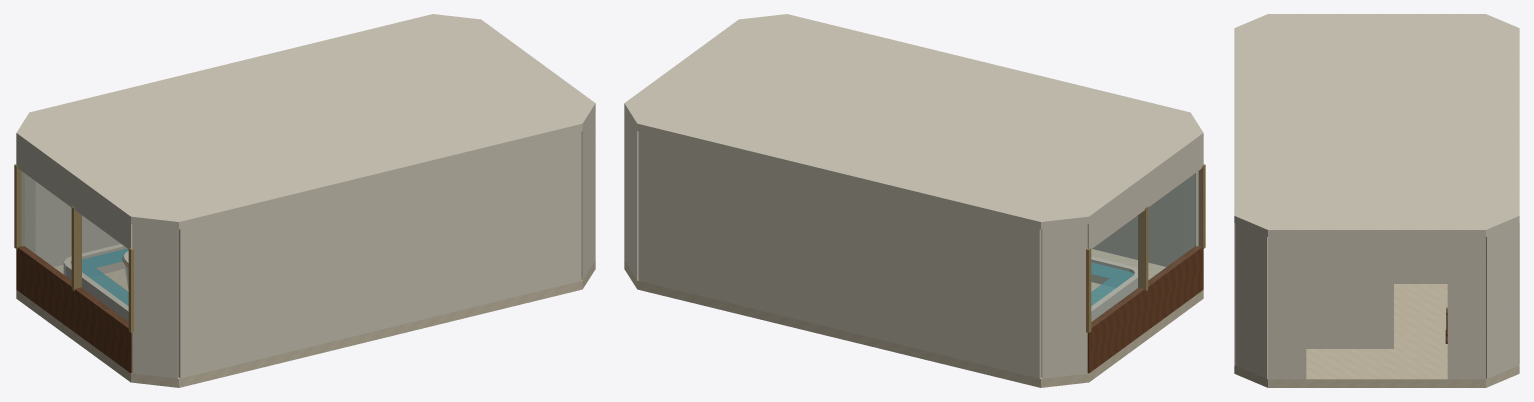
Rendered from D04_STARBOARD_CENTRAL_HOME_896_r001.glb.
3 views of the same model, side by side, from view 1: azimuth 30°, elevation 25°; view 2: azimuth 150°, elevation 25°; view 3: azimuth 270°, elevation 25° (orthographic). The views are drawn at different scales.
Parts seen in each view (by area): view 1: SC896_D04H898_Roof, SC896_D04H898_Shell_7, SC896_D04H898_GardenGlass, SC896_D04H898_Shell_6, SC896_D04H898_Floor, SC896_D04H898_GardenDado, SC896_D04H898_Shell_3, SC896_D04H898_GardenHead, SC896_D04H898_Shell_0, SC896_D04H898_AquaticBasinRim, SC896_D04H898_Water_0, SC896_D04H898_Shell_4 (+3 smaller); view 2: SC896_D04H898_Roof, SC896_D04H898_Shell_3, SC896_D04H898_GardenGlass, SC896_D04H898_Shell_4, SC896_D04H898_Floor, SC896_D04H898_GardenDado, SC896_D04H898_Shell_7, SC896_D04H898_GardenHead, SC896_D04H898_Shell_2, SC896_D04H898_AquaticBasinRim, SC896_D04H898_Shell_6, SC896_D04H898_WindowMullion_1 (+3 smaller); view 3: SC896_D04H898_Roof, SC896_D04H898_Floor, SC896_D04H898_EntryHeader, SC896_D04H898_BathDogleg, SC896_D04H898_EntryWall_0, SC896_D04H898_EntryWall_1, SC896_D04H898_Shell_0, SC896_D04H898_Shell_2, SC896_D04H898_Shell_3, SC896_D04H898_Shell_7.
Part boxes in pixels (box(x1,y1,x2,y2)): SC896_D04H898_Roof: box(16, 14, 595, 229); SC896_D04H898_Shell_7: box(178, 131, 581, 378); SC896_D04H898_GardenGlass: box(24, 173, 128, 325); SC896_D04H898_Shell_6: box(132, 224, 178, 378); SC896_D04H898_Floor: box(16, 260, 595, 387); SC896_D04H898_GardenDado: box(16, 246, 132, 373); SC896_D04H898_Shell_3: box(35, 181, 120, 266); SC896_D04H898_GardenHead: box(16, 140, 132, 248); SC896_D04H898_Shell_0: box(581, 111, 595, 279); SC896_D04H898_AquaticBasinRim: box(63, 244, 128, 321); SC896_D04H898_Water_0: box(82, 248, 128, 305); SC896_D04H898_Shell_4: box(21, 171, 35, 253); SC896_D04H898_Roof: box(624, 14, 1203, 229); SC896_D04H898_Shell_3: box(638, 131, 1041, 378); SC896_D04H898_GardenGlass: box(1091, 173, 1200, 325); SC896_D04H898_Shell_4: box(1041, 224, 1087, 378); SC896_D04H898_Floor: box(624, 249, 1203, 387); SC896_D04H898_GardenDado: box(1087, 246, 1203, 373); SC896_D04H898_Shell_7: box(1092, 181, 1184, 266); SC896_D04H898_GardenHead: box(1087, 140, 1203, 248); SC896_D04H898_Shell_2: box(624, 111, 638, 279); SC896_D04H898_AquaticBasinRim: box(1091, 256, 1137, 321); SC896_D04H898_Shell_6: box(1184, 171, 1198, 253); SC896_D04H898_WindowMullion_1: box(1138, 206, 1148, 290); SC896_D04H898_Roof: box(1234, 14, 1519, 237); SC896_D04H898_Floor: box(1234, 284, 1519, 387); SC896_D04H898_EntryHeader: box(1306, 237, 1447, 283); SC896_D04H898_BathDogleg: box(1306, 284, 1393, 348); SC896_D04H898_EntryWall_0: box(1268, 237, 1306, 379); SC896_D04H898_EntryWall_1: box(1447, 237, 1485, 379); SC896_D04H898_Shell_0: box(1235, 223, 1267, 378); SC896_D04H898_Shell_2: box(1486, 223, 1518, 378); SC896_D04H898_Shell_3: box(1518, 223, 1519, 364); SC896_D04H898_Shell_7: box(1234, 223, 1235, 364).
Bounding box in the file's own units: 12.92 × 4.4 × 7.2.
40 materials, 21 textured.
